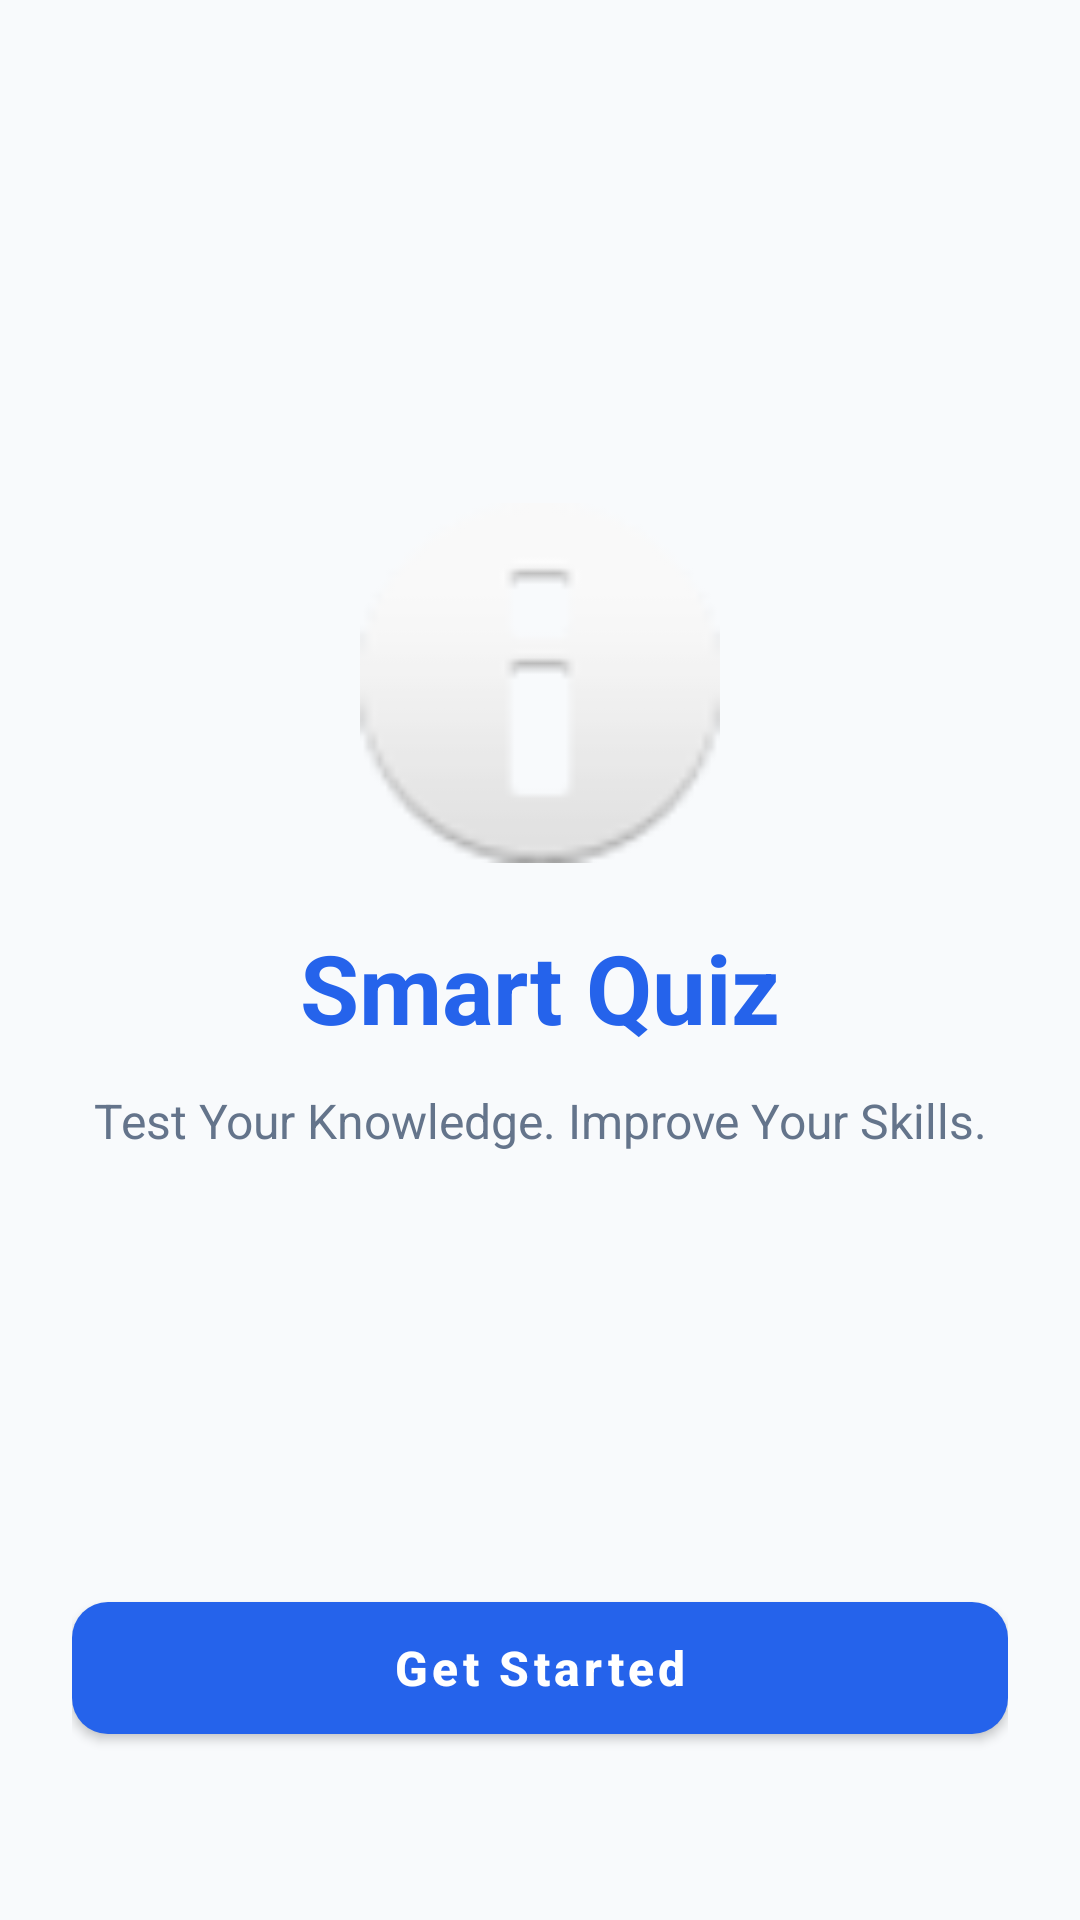

Where icons sit on this 1080w x 1920h app screen, as BBox(x1, y1, x2, y2):
info: BBox(360, 569, 720, 863)
